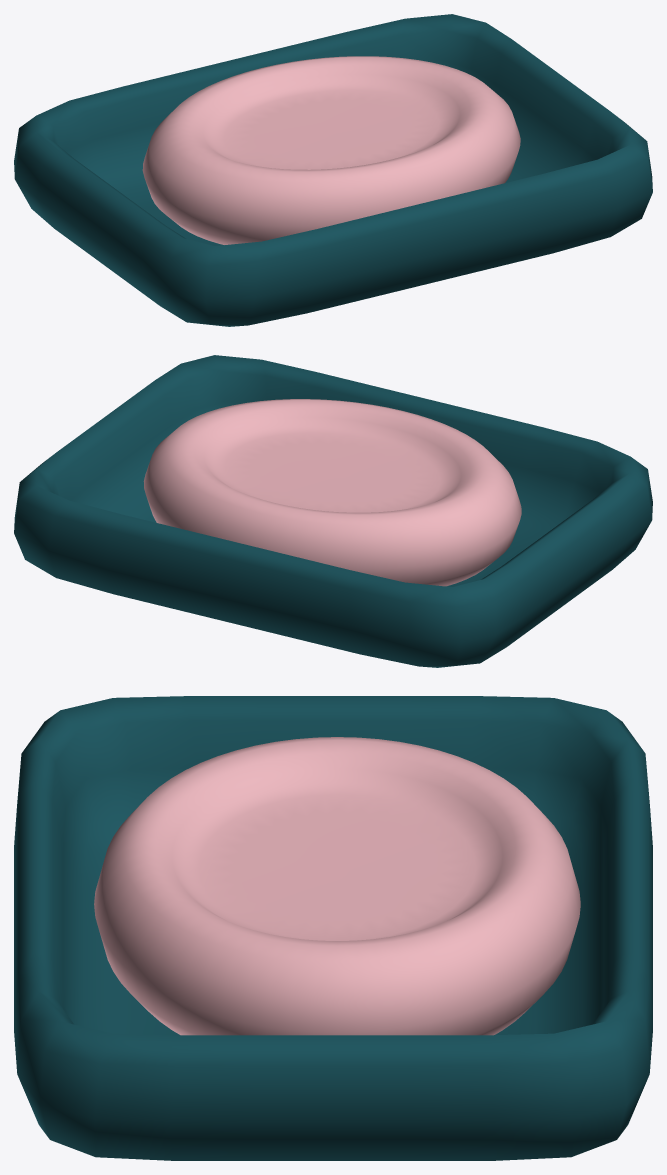
The model's file is Sabun.fbx.
3 renders of one model, top to bottom at view 1: azimuth 30°, elevation 25°; view 2: azimuth 150°, elevation 25°; view 3: azimuth 270°, elevation 25°, orthographic. The views are drawn at different scales.
Visible parts, largest first — view 1: Soap Box; view 2: Soap Box; view 3: Soap Box.
Boxes of the visible parts, x1,y1,x2,y2 form: Soap Box: (14,14,652,326); Soap Box: (14,355,652,667); Soap Box: (14,696,652,1160).
Bounding box in the file's own units: 27.45 × 6.14 × 20.38.
